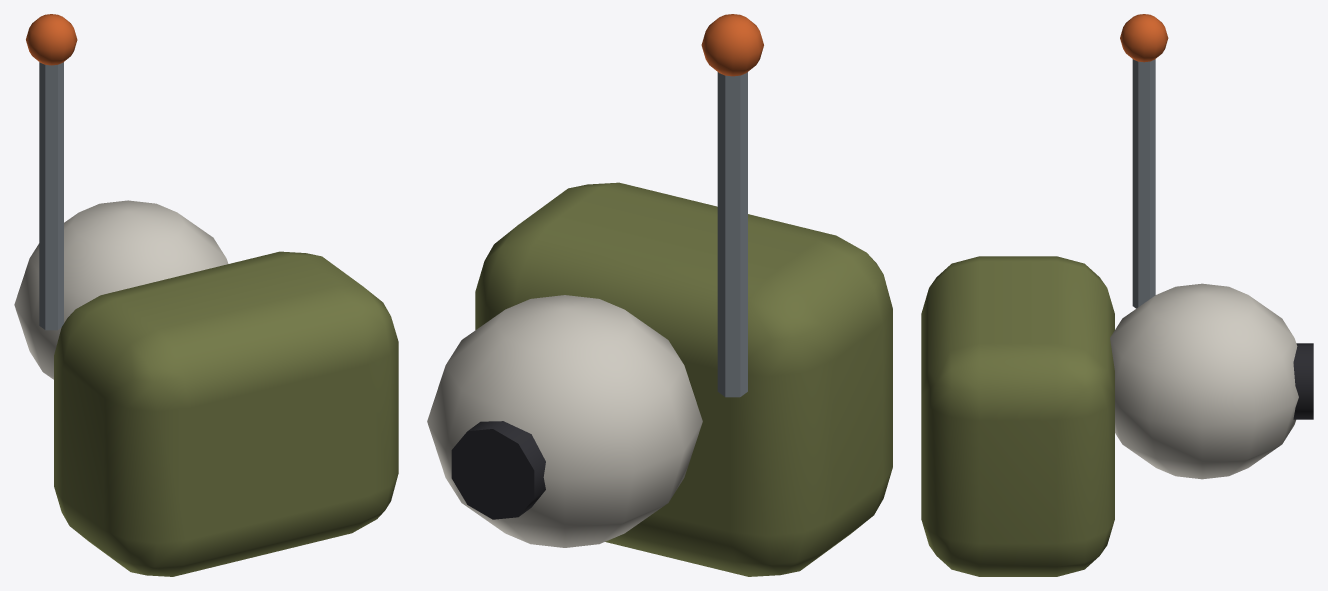
File: mo_targeting.glb
3 renders of one model, left to right at view 1: azimuth 30°, elevation 25°; view 2: azimuth 150°, elevation 25°; view 3: azimuth 270°, elevation 25°, orthographic. The views are drawn at different scales.
Visible parts, largest first — view 1: mo_targeting; view 2: mo_targeting; view 3: mo_targeting.
Part boxes in pixels (<box>): mo_targeting: <box>14,14,398,576</box>; mo_targeting: <box>427,14,892,576</box>; mo_targeting: <box>921,14,1313,576</box>.
Size of the model in its own units: 0.1376 by 0.2279 by 0.1742.
